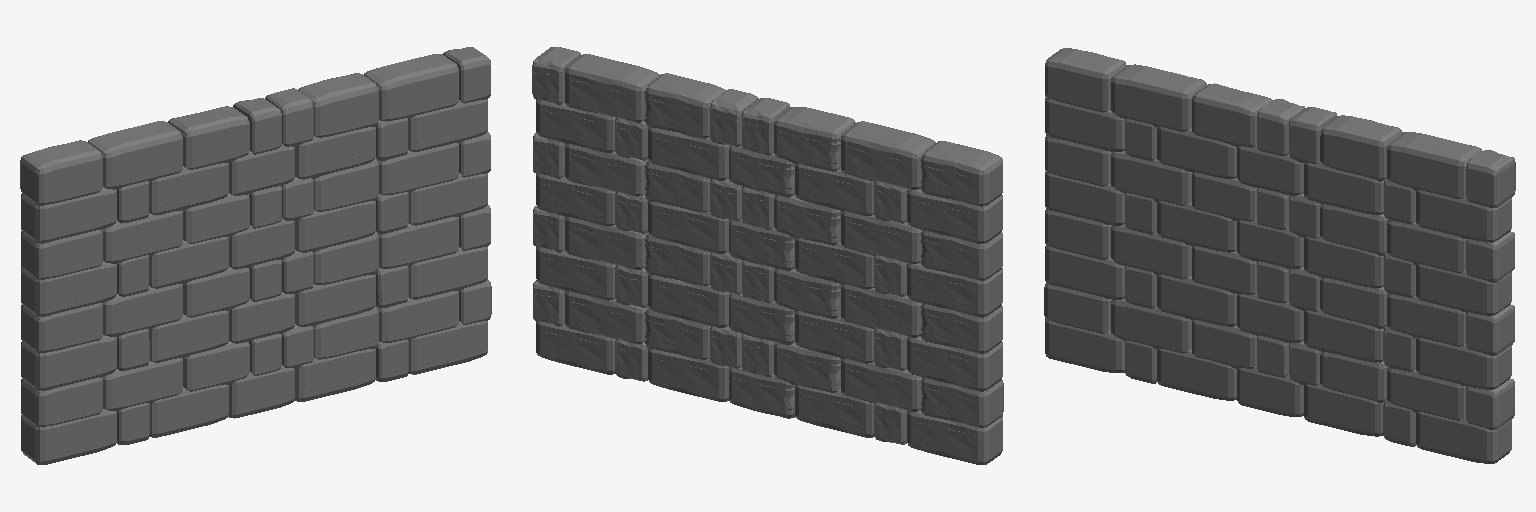
The robot description file, URDF, robot "urdf_wall":
<?xml version="1.0" ?>
<robot name="urdf_wall">
 <link name="world"/>
  <joint name="fixed" type="fixed">
    <parent link="world"/>
    <child link="baseLink"/>
    <origin xyz="0 0 0"/>
  </joint>

  <link name="baseLink">
    <inertial>
      <origin rpy="1.57 0 0" xyz="0 0 0"/>
       <mass value="0.1"/>
       <inertia ixx="0.1" ixy="0" ixz="0" iyy="0.1" iyz="0" izz="0.1"/>
    </inertial>
    <visual>
        <origin xyz='0 0 0' rpy='1.57 0 0'/>
    <geometry>
     <mesh filename="walls_quarter.obj"  scale="0.01 0.01 0.01" />
    </geometry>
    <material name="gray">
        <color rgba="0.509 0.509 0.509 1"/>
    </material>
    </visual>
    <collision>
        <origin xyz='0 0 0' rpy='1.57 0 0'/>
    <geometry>
     <mesh filename="walls_quarter.obj"  scale="0.01 0.01 0.01" />
    </geometry>
    </collision>
  </link>

  <link name="wall2">
    <inertial>
      <origin rpy="1.57 0 0" xyz="0 0 0"/>
       <mass value="0.1"/>
       <inertia ixx="0.1" ixy="0" ixz="0" iyy="0.1" iyz="0" izz="0.1"/>
    </inertial>
    <visual>
        <origin xyz='0 0 0' rpy='1.57 0 0'/>
    <geometry>
     <mesh filename="walls_quarter.obj"  scale="0.01 0.01 0.01" />
    </geometry>
    <material name="gray">
        <color rgba="0.509 0.509 0.509 1"/>
    </material>
    </visual>
    <collision>
        <origin xyz='0 0 0' rpy='1.57 0 0'/>
    <geometry>
     <mesh filename="walls_quarter.obj"  scale="0.01 0.01 0.01" />
    </geometry>
    </collision>
  </link>

  <joint name="wall2_joint" type="fixed">
    <parent link="baseLink"/>
    <child link="wall2"/>
    <origin xyz="0.0 0 0.05"/>
  </joint>

</robot>

--- What the picture shows (computed from the rendered views, not written in the file) ---
3 views of the same robot in one strip: view 1: azimuth 30°, elevation 25°; view 2: azimuth 150°, elevation 25°; view 3: azimuth 330°, elevation 25° (orthographic).
Model urdf_wall with 3 links and 2 joints (2 fixed), rooted at world, posed all joints at 0.
Links seen in each view (by area): view 1: wall2, baseLink; view 2: baseLink, wall2; view 3: wall2, baseLink.
Link boxes in pixels (box(x1,y1,x2,y2)): wall2: box(20, 47, 491, 455); baseLink: box(20, 88, 491, 464); baseLink: box(532, 71, 1003, 464); wall2: box(532, 47, 1003, 454); wall2: box(1044, 48, 1515, 454); baseLink: box(1044, 89, 1515, 463).
Bounding box of the posed robot: 3.95 × 0.3218 × 2.51 m (x, y, z).
Meshes: 1 distinct files referenced, 2 mesh visuals loaded (1 OBJ).